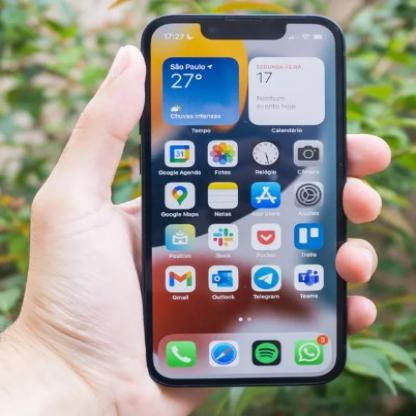NOTEBOOK: (148, 15, 348, 388)
